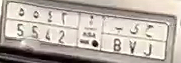2: (57, 12, 69, 44)
4: (44, 10, 53, 42)
5: (30, 10, 40, 40), (16, 7, 25, 37)
B: (113, 26, 124, 52)
J: (143, 24, 154, 57)
V: (128, 24, 140, 54)
